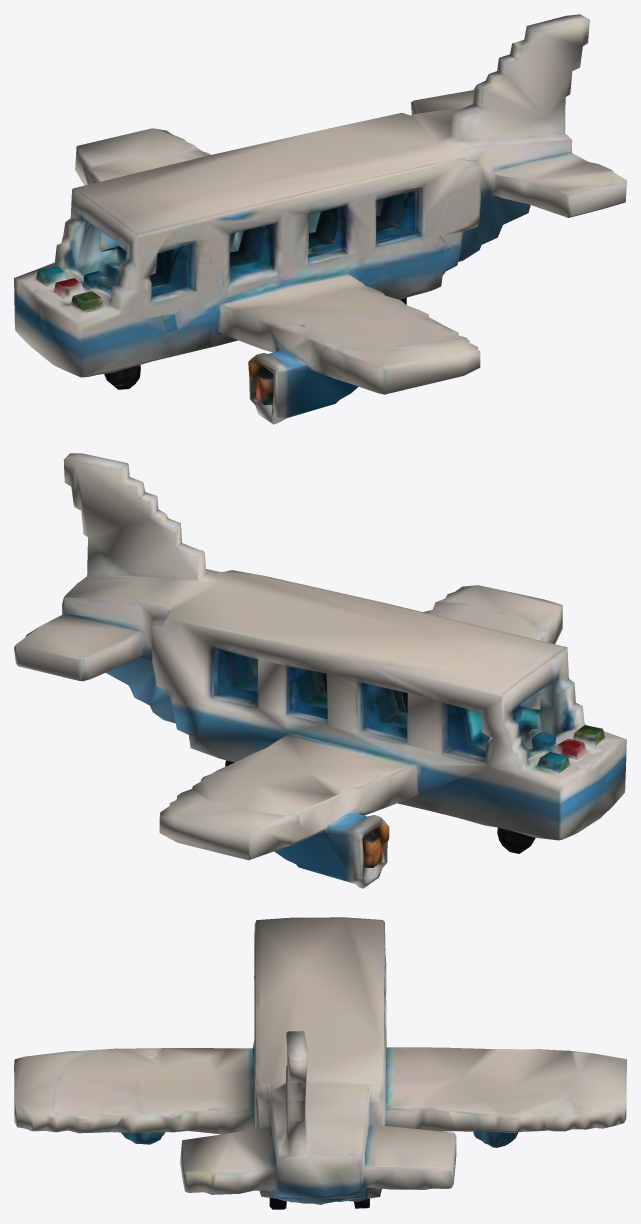
Rendered from airplane.glb.
3 renders of one model, top to bottom at view 1: azimuth 30°, elevation 25°; view 2: azimuth 150°, elevation 25°; view 3: azimuth 270°, elevation 25°, orthographic. The views are drawn at different scales.
Visible parts, largest first — view 1: material.001; view 2: material.001; view 3: material.001.
Part boxes in pixels (left/top/right/bottom): material.001: left=14, top=14, right=626, bottom=424; material.001: left=14, top=453, right=626, bottom=888; material.001: left=14, top=917, right=626, bottom=1209.
Bounding box in the file's own units: 1.09 × 0.4919 × 1.09.
Materials: 1 (1 with a texture image).
